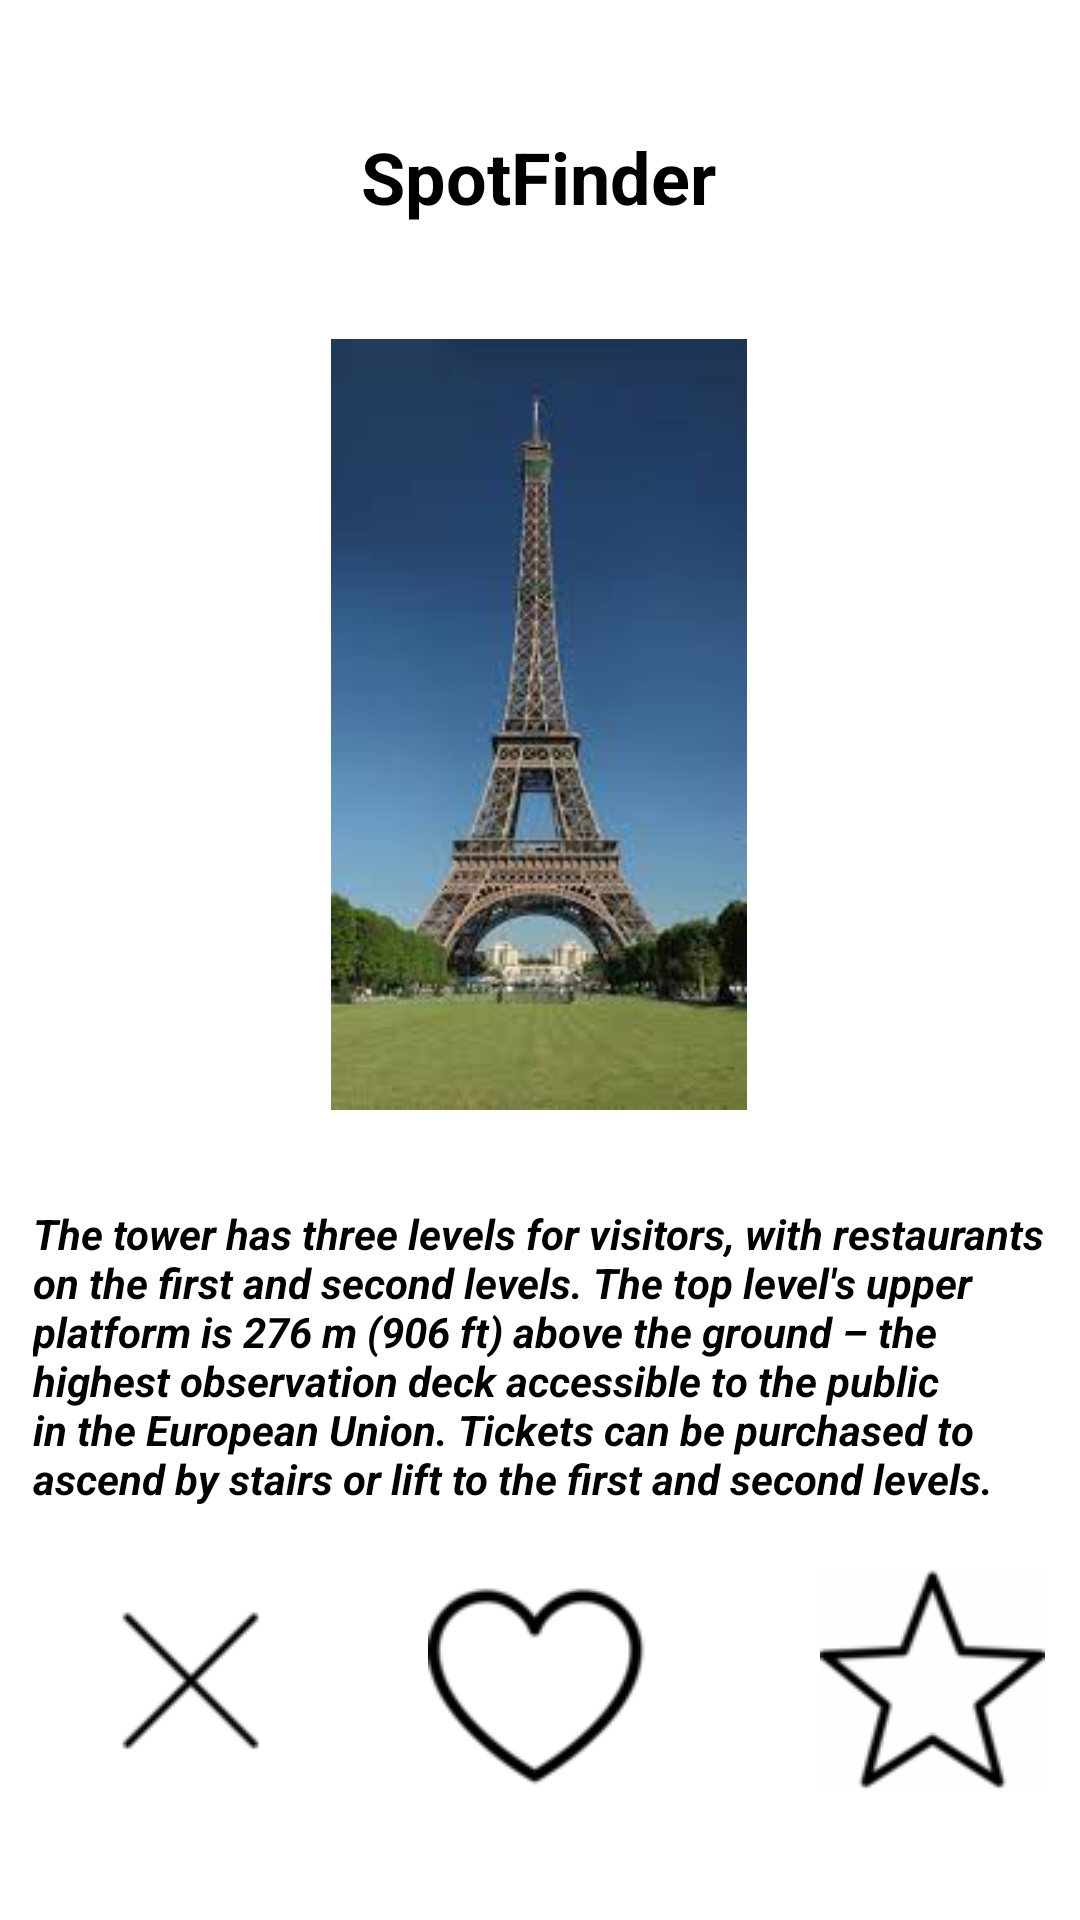

Named icons in this screenshot (1080 × 1920) and their centers, (x=x, y=y):
coeur: (x=536, y=1686)
croix: (x=190, y=1680)
star: (x=932, y=1679)
